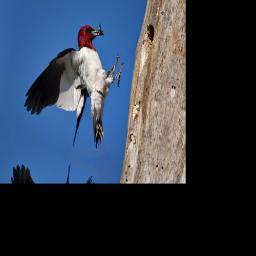Woodpecker: (20, 5, 129, 157)
